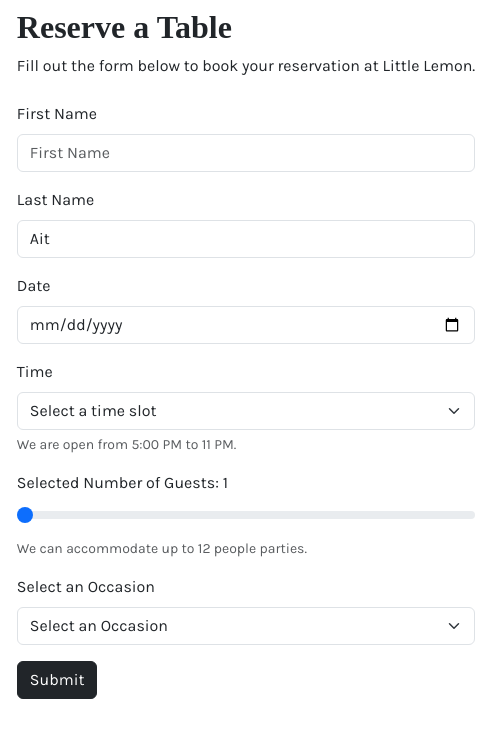
Test case: If one required field is empty, the form does not submit and shows 'required' › first Name is empty
The width and height of the screenshot is (492, 741).
# Use act to wrap the click event
Click the button "Submit" at (57, 680), box left=17, top=661, right=97, bottom=699
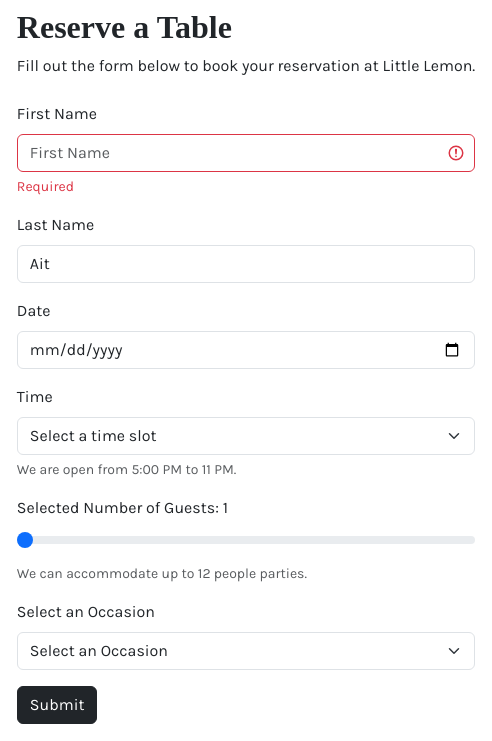
Check: the text "Required" is shown, box left=17, top=178, right=74, bottom=195
